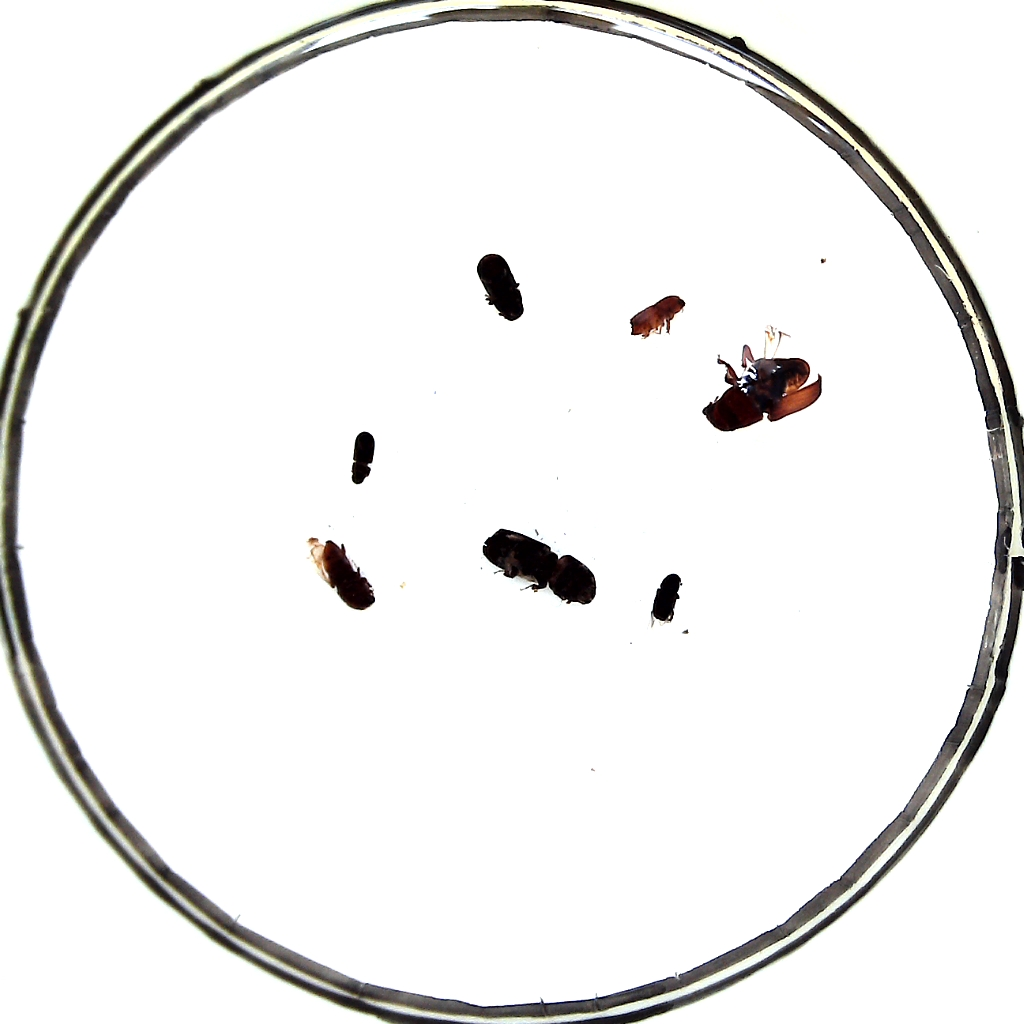Boerner: (479, 527, 600, 611)
Leconte: (703, 351, 825, 431)
Linnaeus: (315, 537, 372, 608)
acuminatus: (630, 293, 684, 339)
armandi: (476, 251, 522, 318)
coleoptera: (646, 573, 682, 623), (348, 433, 376, 482)
